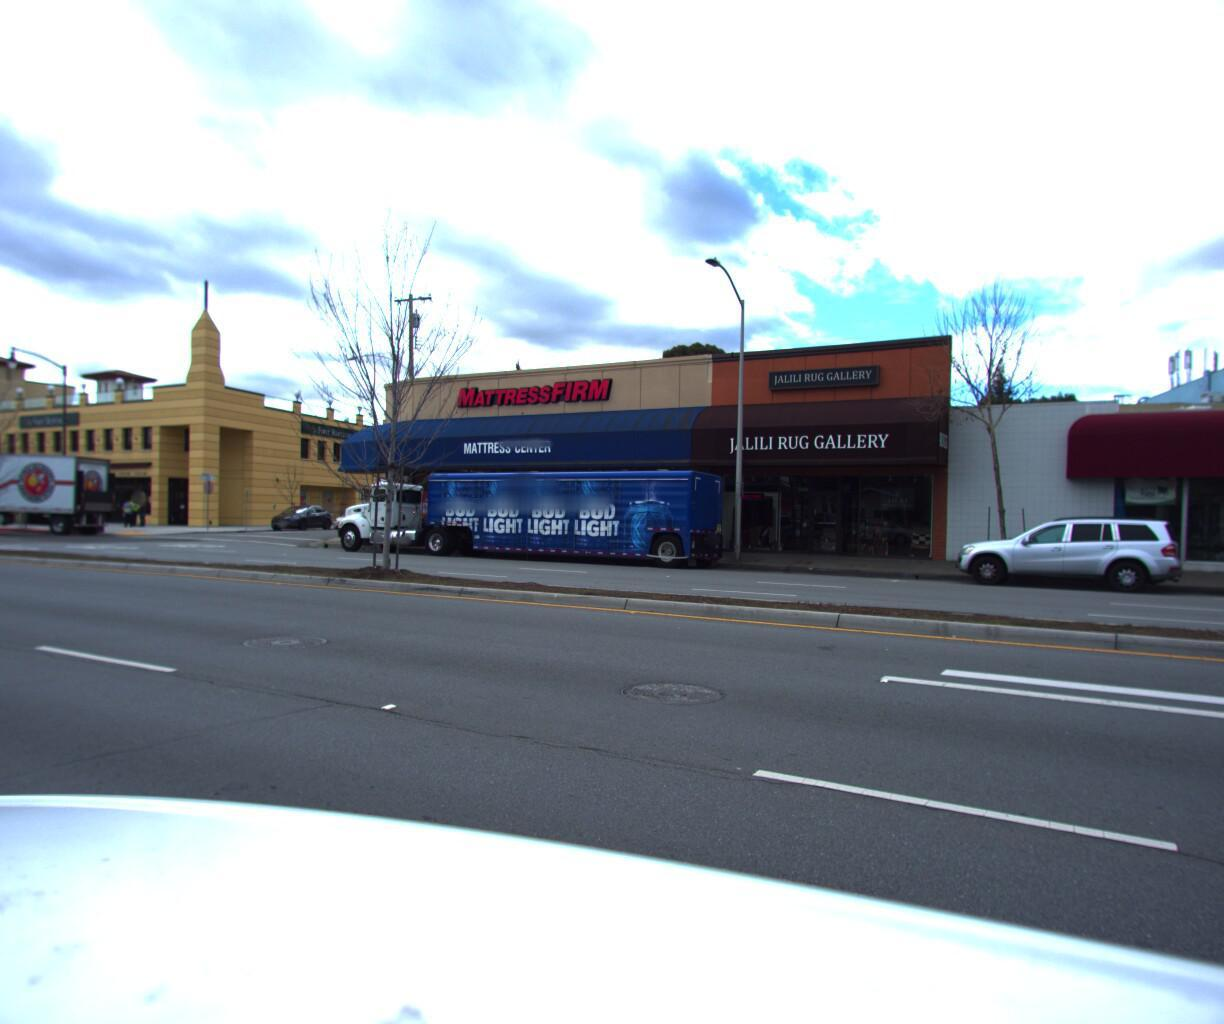car: (946, 511, 1189, 591), (263, 503, 334, 530)
truck: (328, 473, 729, 568), (0, 447, 126, 534)
